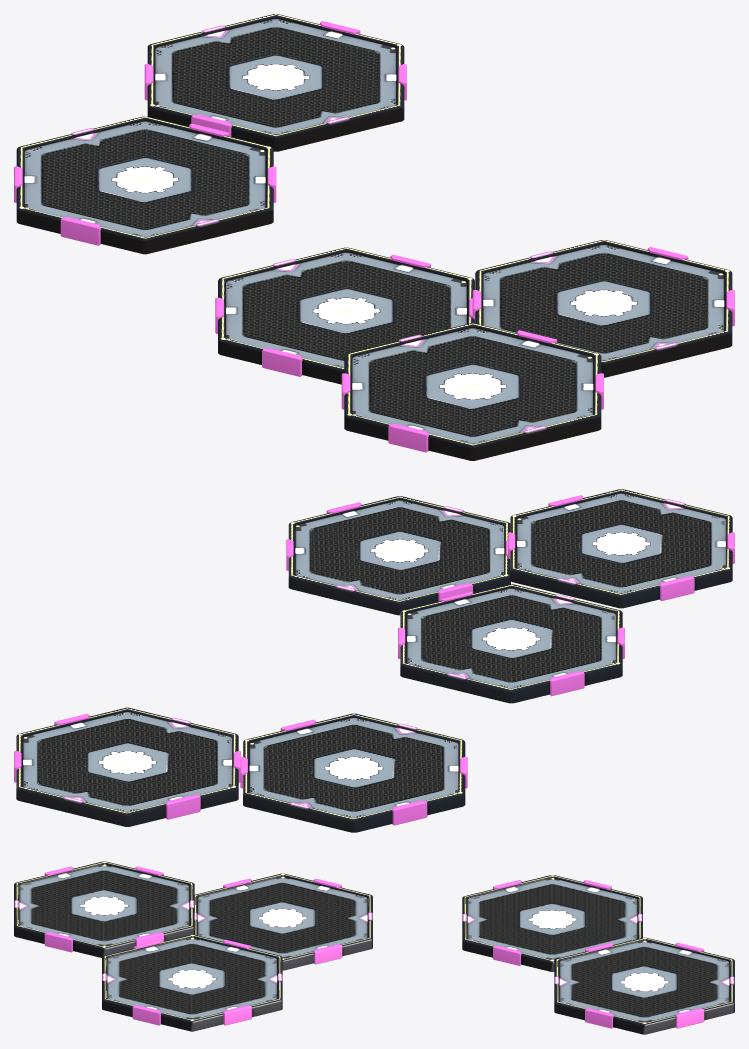
Rendered from entity61096.gltf.
3 renders of one model, top to bottom at view 1: azimuth 30°, elevation 25°; view 2: azimuth 150°, elevation 25°; view 3: azimuth 270°, elevation 25°, orthographic. The views are drawn at different scales.
Visible parts, largest first — view 1: node_Hexagon_Floor01_Medium_Art; view 2: node_Hexagon_Floor01_Medium_Art; view 3: node_Hexagon_Floor01_Medium_Art.
Part boxes in pixels (x1,y1,x2,y2): node_Hexagon_Floor01_Medium_Art: (14,14,734,460); node_Hexagon_Floor01_Medium_Art: (14,489,734,832); node_Hexagon_Floor01_Medium_Art: (14,861,734,1034).
Bounding box in the file's own units: 21.39 × 1.88 × 41.45.
Materials: 1 (1 with a texture image).
